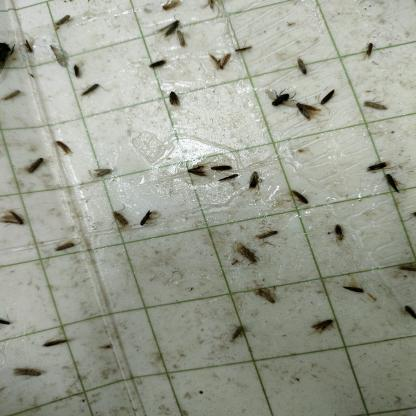prays_oleae: (302, 312, 338, 355), (2, 76, 26, 116), (4, 202, 29, 238), (342, 274, 367, 310), (184, 154, 208, 190), (10, 362, 46, 384), (286, 180, 312, 210), (294, 89, 315, 124), (250, 281, 275, 309), (244, 165, 264, 198), (237, 241, 258, 272), (160, 11, 182, 40), (136, 204, 159, 231), (207, 48, 228, 76), (229, 320, 247, 350), (257, 221, 276, 249), (382, 173, 404, 197), (331, 217, 348, 248), (294, 53, 312, 82), (25, 152, 45, 178), (54, 133, 74, 159), (233, 40, 256, 62), (364, 90, 386, 112), (51, 233, 77, 251), (365, 155, 389, 174), (113, 207, 130, 232), (209, 159, 234, 176), (0, 309, 14, 339), (362, 39, 378, 64), (147, 54, 168, 72), (320, 85, 335, 109), (396, 258, 416, 276), (90, 164, 112, 180), (20, 34, 35, 56), (76, 82, 99, 96), (54, 14, 72, 30), (404, 298, 416, 321), (176, 27, 187, 52), (72, 59, 82, 81), (42, 339, 72, 346), (213, 176, 240, 180)
